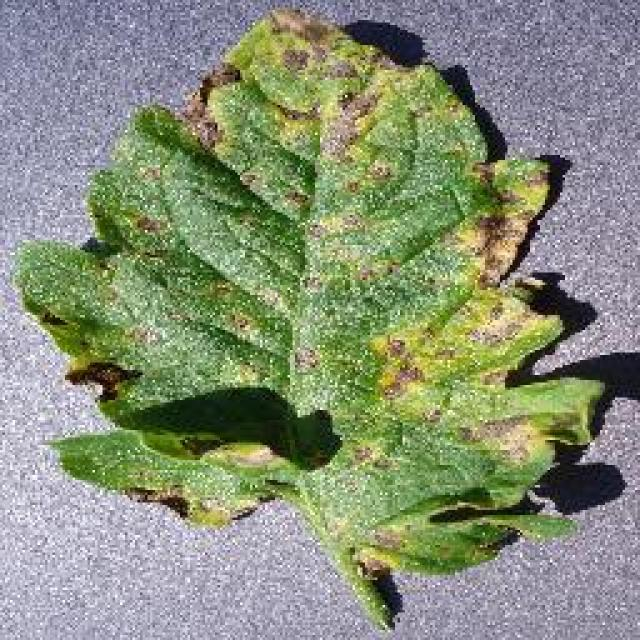Tomato___Septoria_leaf_spot: (12, 10, 602, 622)
